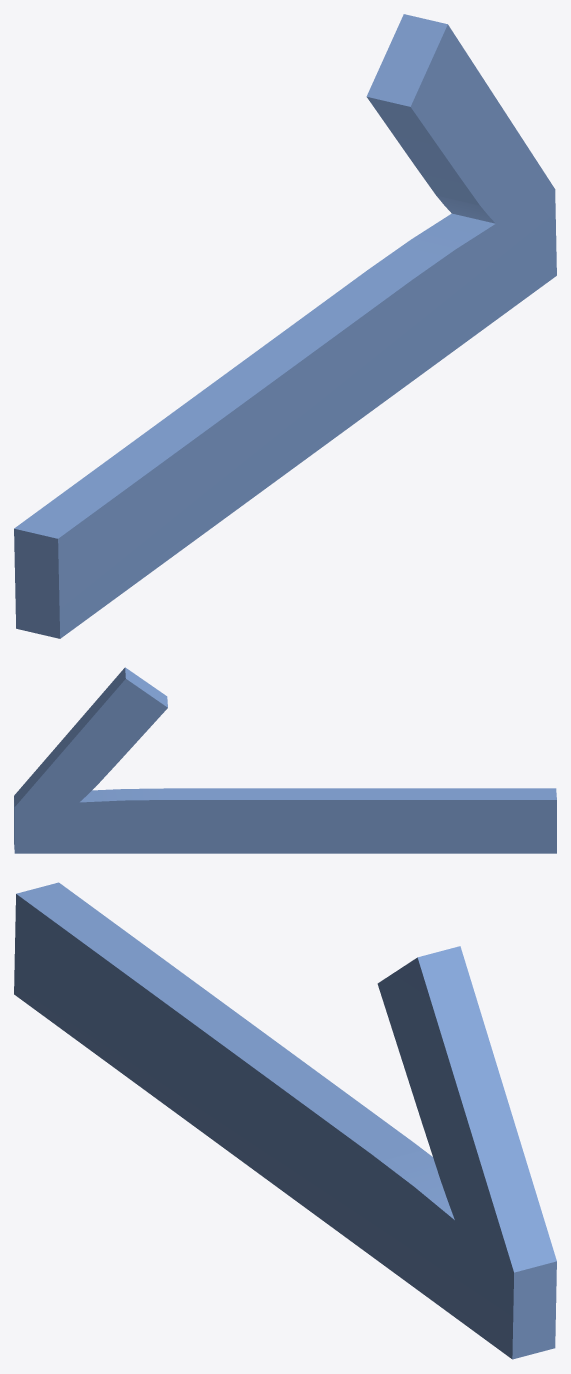
Rendered from New_Number_1.gltf.
The picture shows the model from 3 angles, top to bottom: view 1: azimuth 30°, elevation 25°; view 2: azimuth 150°, elevation 25°; view 3: azimuth 270°, elevation 25°; orthographic projection. The views are drawn at different scales.
Visible parts, largest first — view 1: Part 10; view 2: Part 10; view 3: Part 10.
Part boxes in pixels (x1,y1,x2,y2): Part 10: (14,14,556,638); Part 10: (14,667,556,853); Part 10: (14,882,556,1359).
Size of the model in its own units: 0.0045 by 0.00182 by 0.00274.
